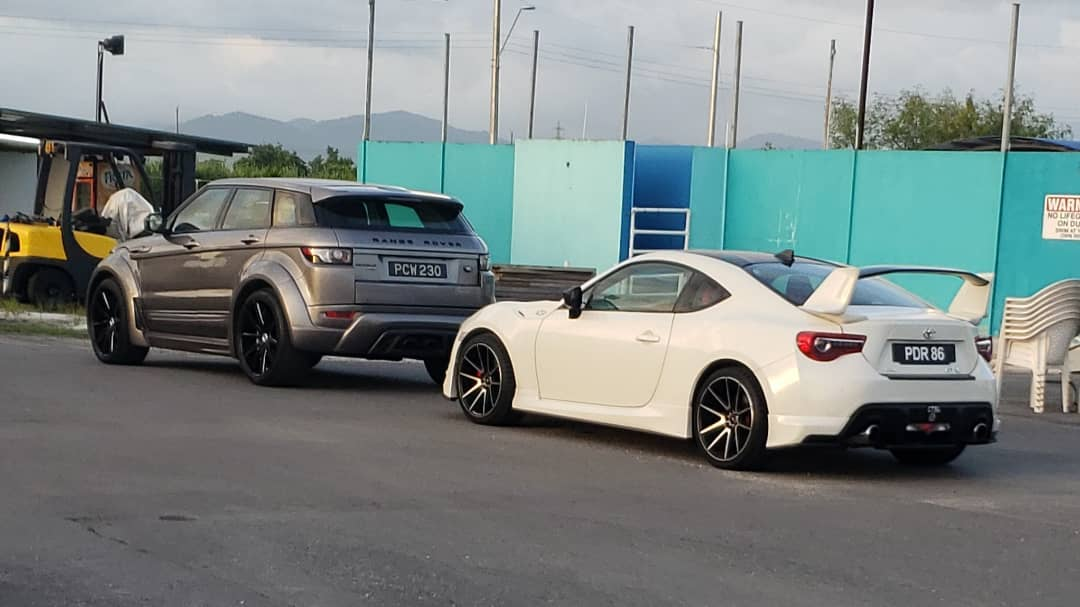License-Plate: (893, 344, 954, 360), (390, 261, 445, 274)
